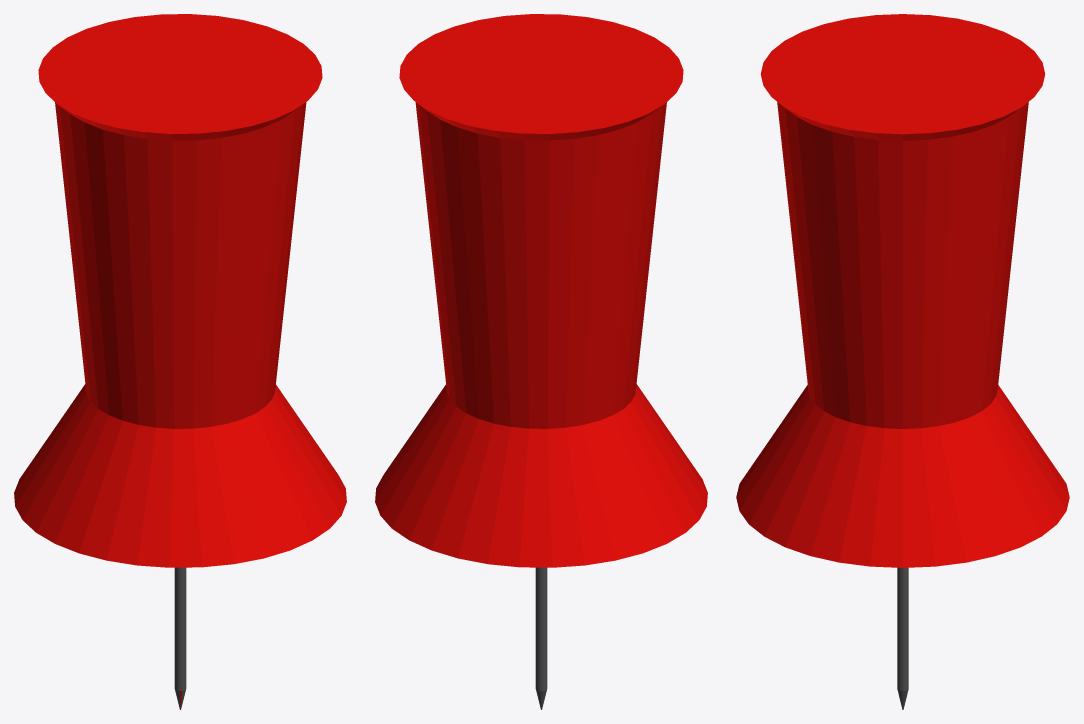
File: Pin.fbx
The picture shows the model from 3 angles, left to right: view 1: azimuth 30°, elevation 25°; view 2: azimuth 150°, elevation 25°; view 3: azimuth 270°, elevation 25°; orthographic projection.
Visible parts, largest first — view 1: Cylinder; view 2: Cylinder; view 3: Cylinder.
Boxes of the visible parts, box(x1,y1,x2,y2) form: Cylinder: box(14, 14, 346, 709); Cylinder: box(375, 14, 707, 709); Cylinder: box(736, 14, 1069, 709).
Bounding box in the file's own units: 234 × 493 × 234.
